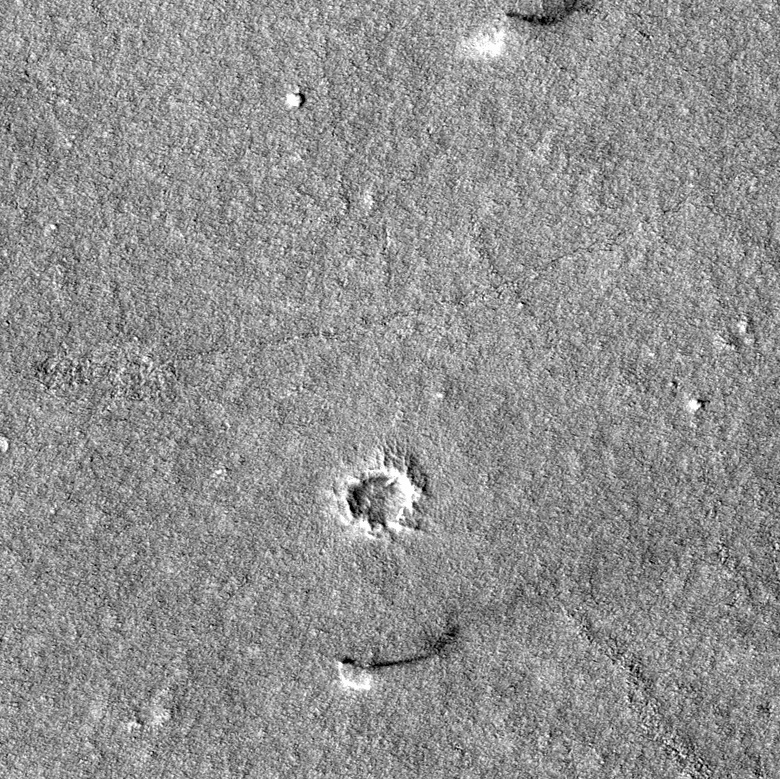dust_devil: (331, 621, 463, 694), (453, 1, 593, 63)
